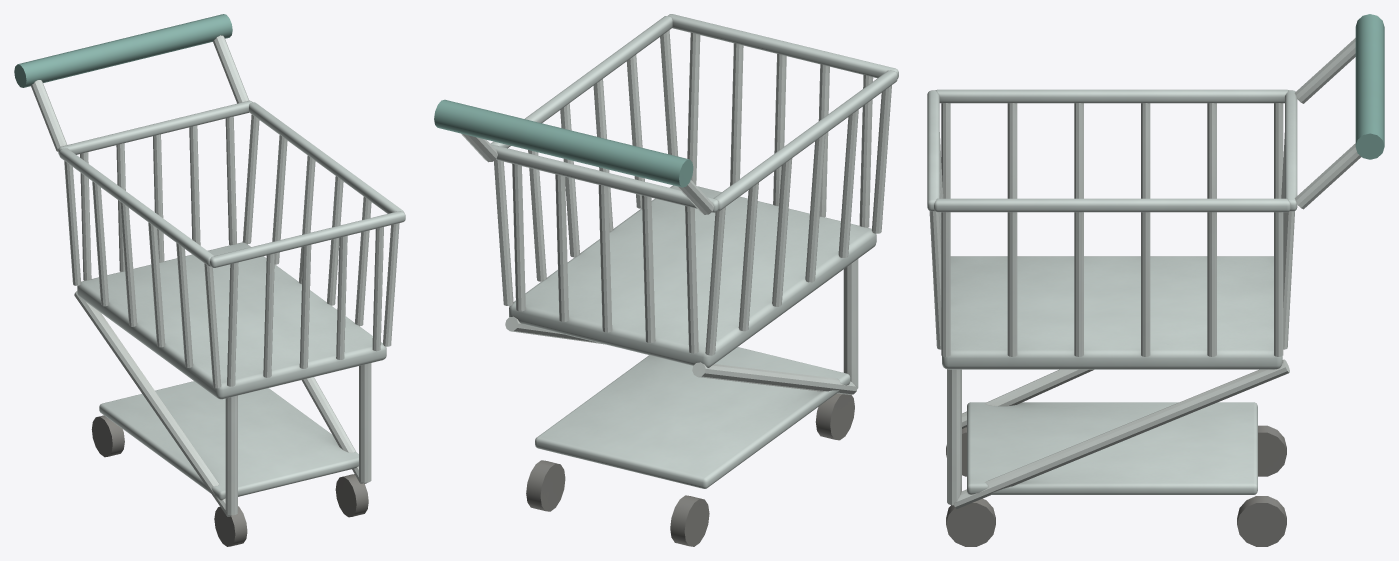
File: CartEmpty.fbx
3 views of the same model, side by side, from view 1: azimuth 30°, elevation 25°; view 2: azimuth 150°, elevation 25°; view 3: azimuth 270°, elevation 25° (orthographic). The views are drawn at different scales.
Parts seen in each view (by area): view 1: CartEmpty; view 2: CartEmpty; view 3: CartEmpty.
Boxes of the visible parts, box(x1,y1,x2,y2) form: CartEmpty: box(14, 14, 405, 546); CartEmpty: box(434, 14, 898, 546); CartEmpty: box(927, 14, 1384, 546).
Size of the model in its own units: 68 by 115 by 110.
